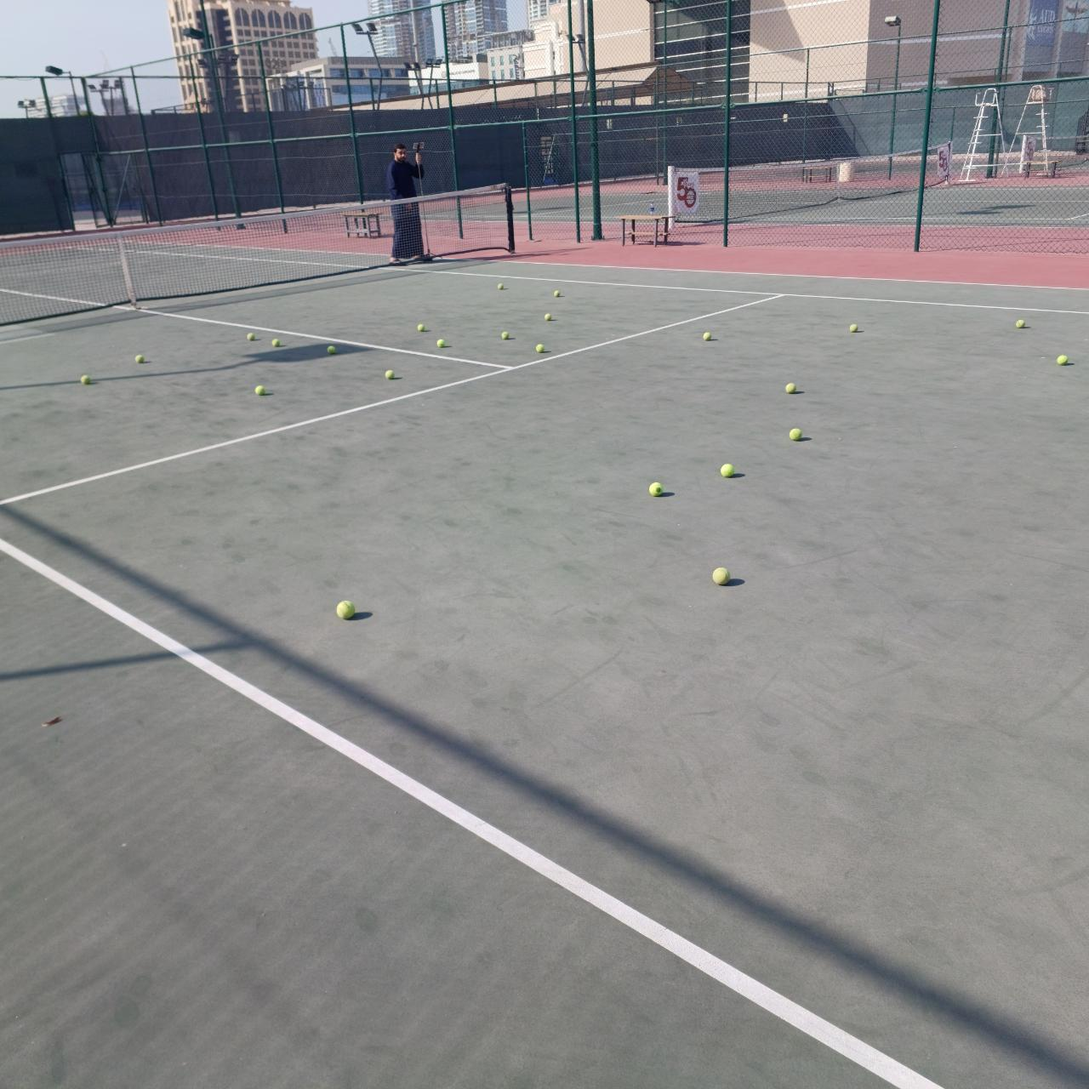tennis-ball: (334, 597, 356, 619), (710, 564, 729, 584), (718, 460, 734, 477), (647, 480, 663, 496), (788, 425, 801, 441), (785, 382, 797, 394), (1015, 319, 1026, 330), (254, 385, 265, 396), (1057, 355, 1068, 365), (385, 369, 395, 380), (81, 375, 91, 385), (849, 323, 858, 333), (702, 332, 712, 341), (327, 346, 337, 355), (135, 354, 144, 364), (436, 339, 445, 348), (247, 332, 256, 341), (535, 344, 544, 352), (501, 331, 509, 340), (544, 313, 552, 322), (417, 324, 425, 332), (272, 339, 280, 347), (553, 290, 560, 298), (497, 283, 504, 290)
